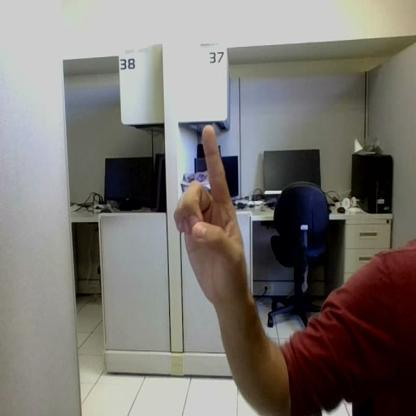D: (174, 125, 247, 294)
